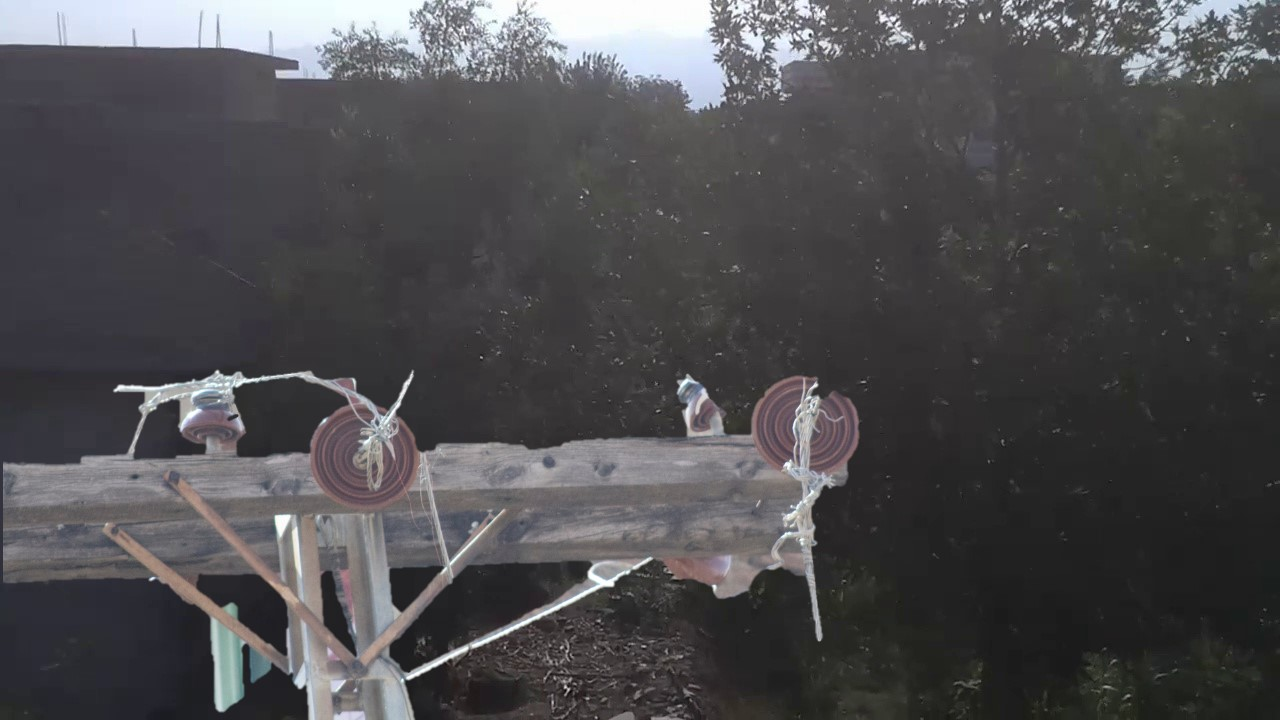defect_pin: (672, 370, 729, 442)
insulator_disc: (307, 398, 423, 513), (747, 370, 867, 479)
insulator_pin: (173, 380, 250, 448)
